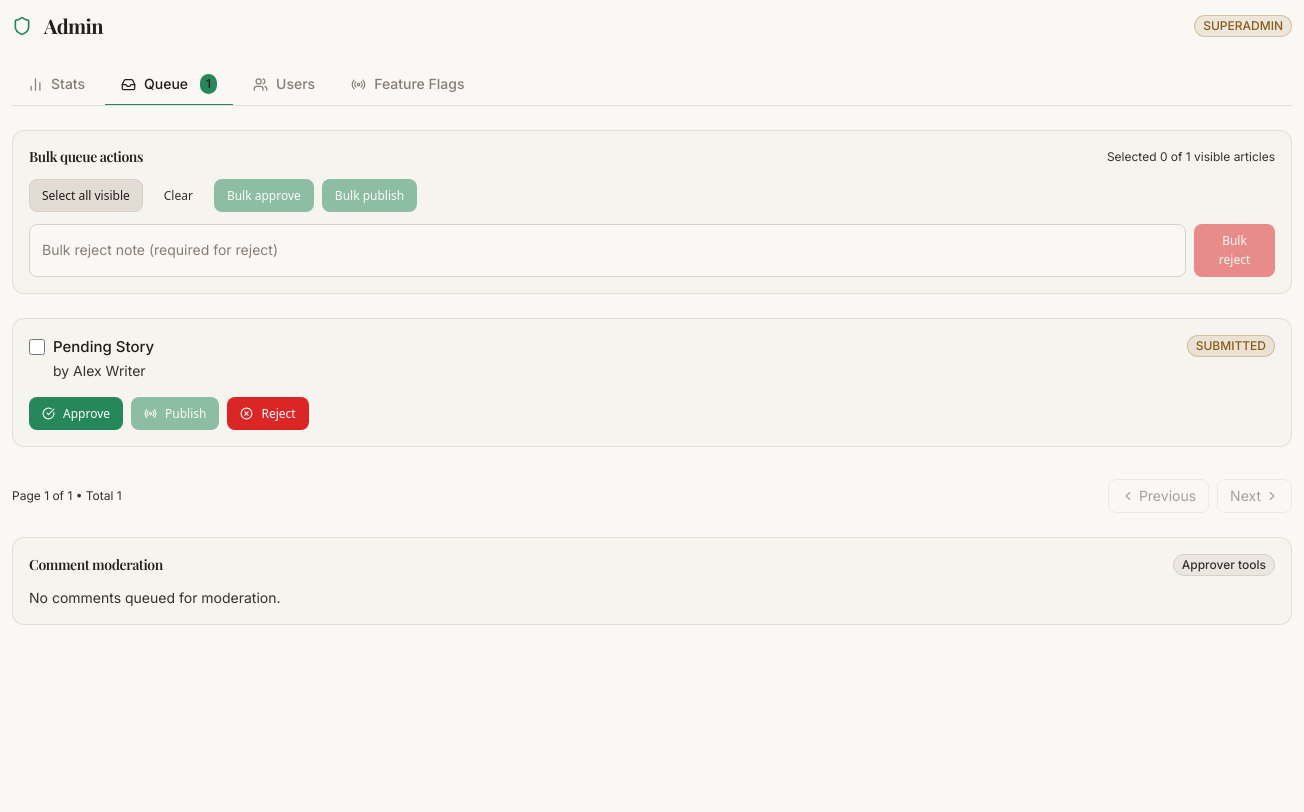
Scenario: AdminPage › shows stats error panel for superadmin when stats request fails
Click the button "Stats". click: coordinates (56, 85)
box: [12,64,101,106]
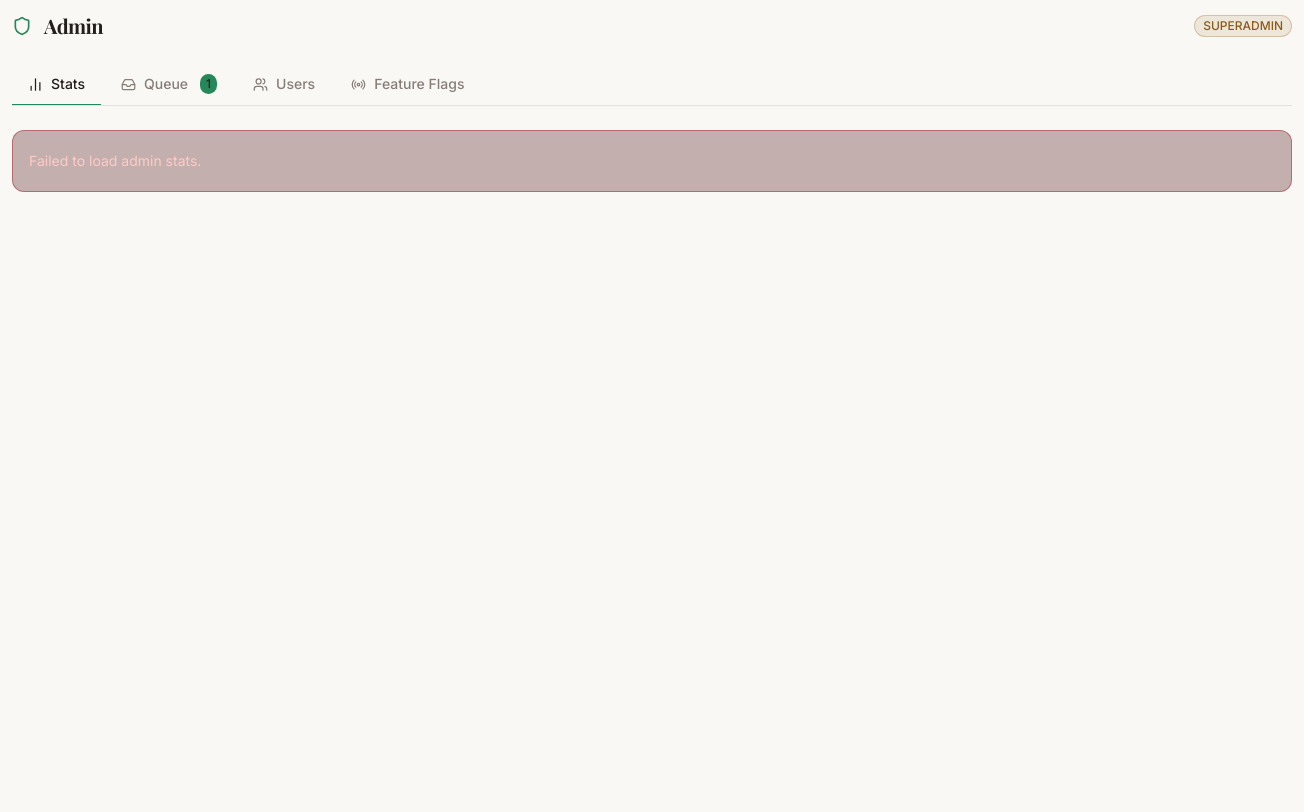
Now the text "Failed to load admin stats." is shown, box [12,130,1292,192]
